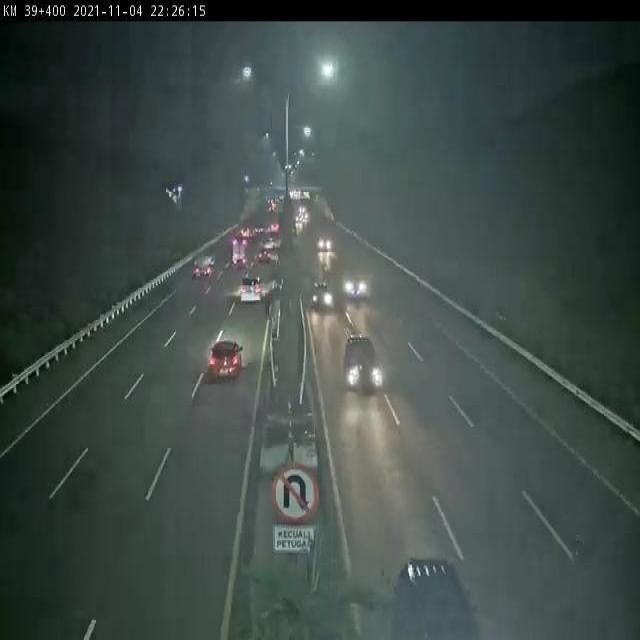car: (338, 329, 384, 402), (208, 330, 246, 374), (346, 275, 374, 304), (238, 275, 264, 304), (314, 283, 338, 312)
truck-l-: (197, 250, 212, 278)
